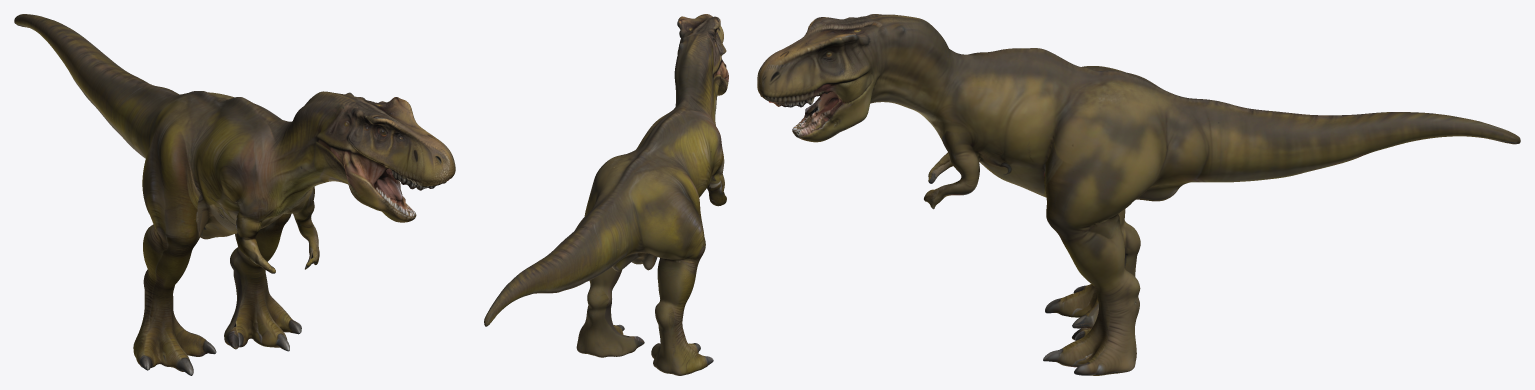
File: dino1.glb
3 views of the same model, side by side, from view 1: azimuth 30°, elevation 25°; view 2: azimuth 150°, elevation 25°; view 3: azimuth 270°, elevation 25° (orthographic). The views are drawn at different scales.
Size of the model in its own units: 0.5364 by 0.9834 by 1.99.
Materials: 1 (1 with a texture image).
